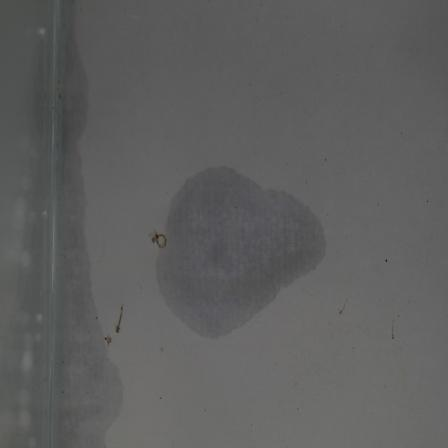Jentik-Nyamuk: (99, 302, 129, 349), (147, 229, 174, 254)
